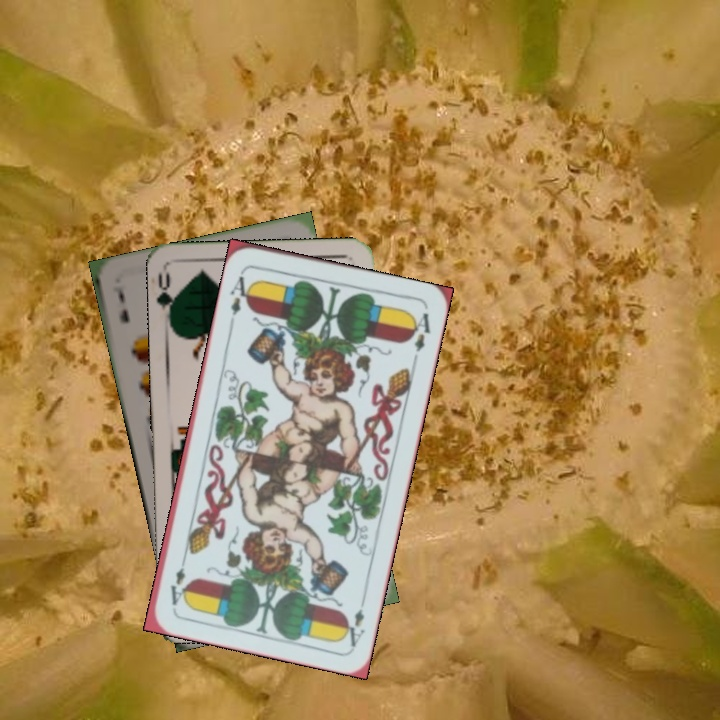E7: (108, 281, 133, 325)
EA: (339, 591, 369, 650), (226, 267, 255, 318)
GO: (154, 268, 182, 327)
